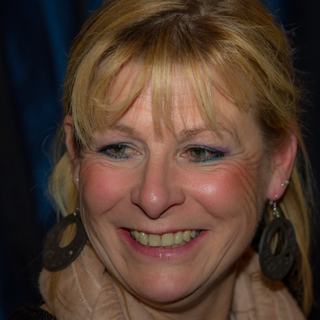eye: (175, 140, 229, 168), (94, 136, 146, 165)
